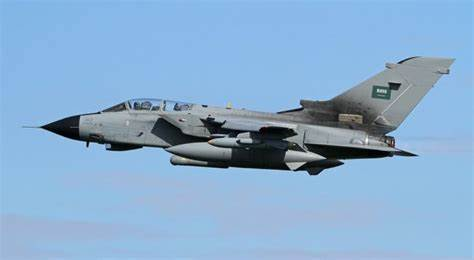Aeronef_militaire: (20, 46, 460, 205)
